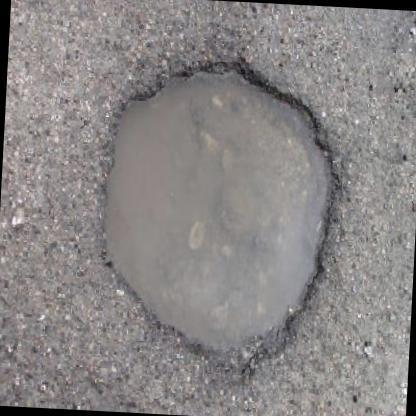pothole: (97, 54, 349, 377)
